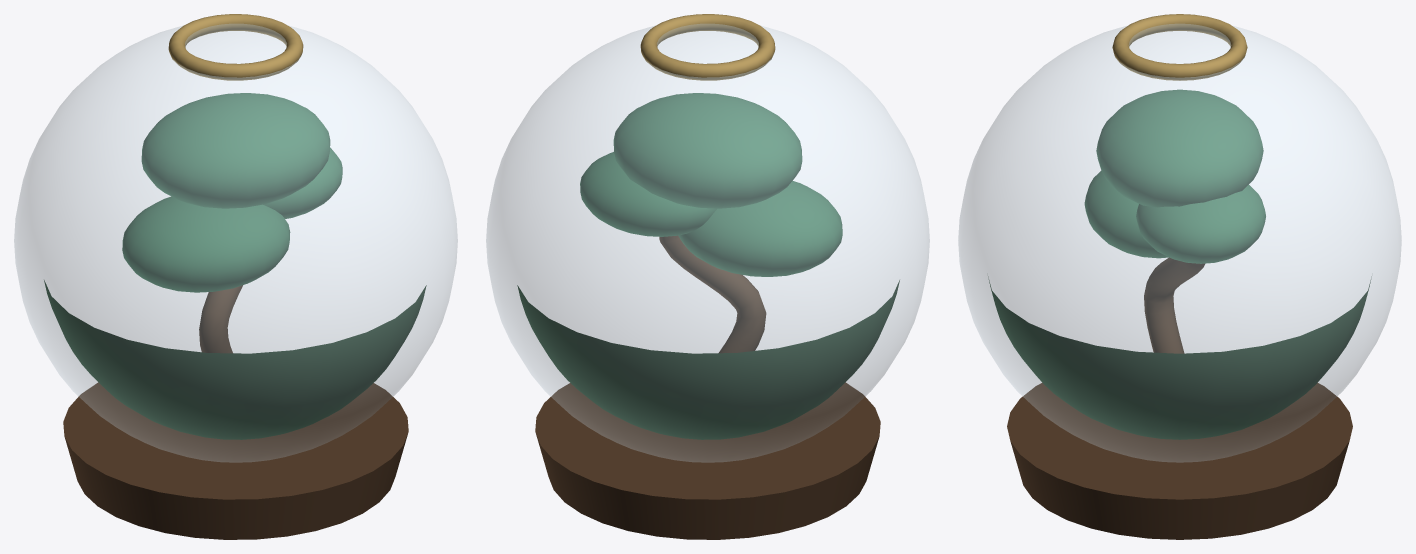
Rendered from atelier-decor-terrarium-heritage.glb.
The picture shows the model from 3 angles, left to right: view 1: azimuth 30°, elevation 25°; view 2: azimuth 150°, elevation 25°; view 3: azimuth 270°, elevation 25°; orthographic projection.
Size of the model in its own units: 0.21 by 0.226 by 0.21.
